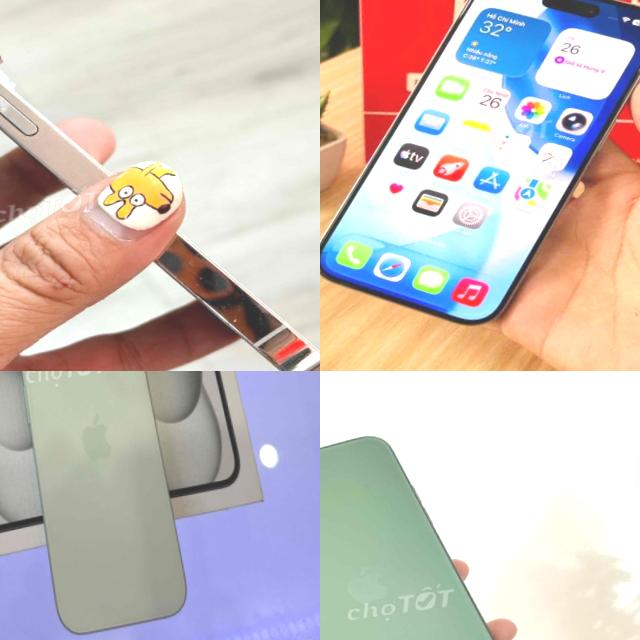gen_11: (320, 416, 528, 640)
gen_14: (0, 0, 320, 371)
gen_15: (320, 0, 640, 345), (0, 371, 197, 640)
